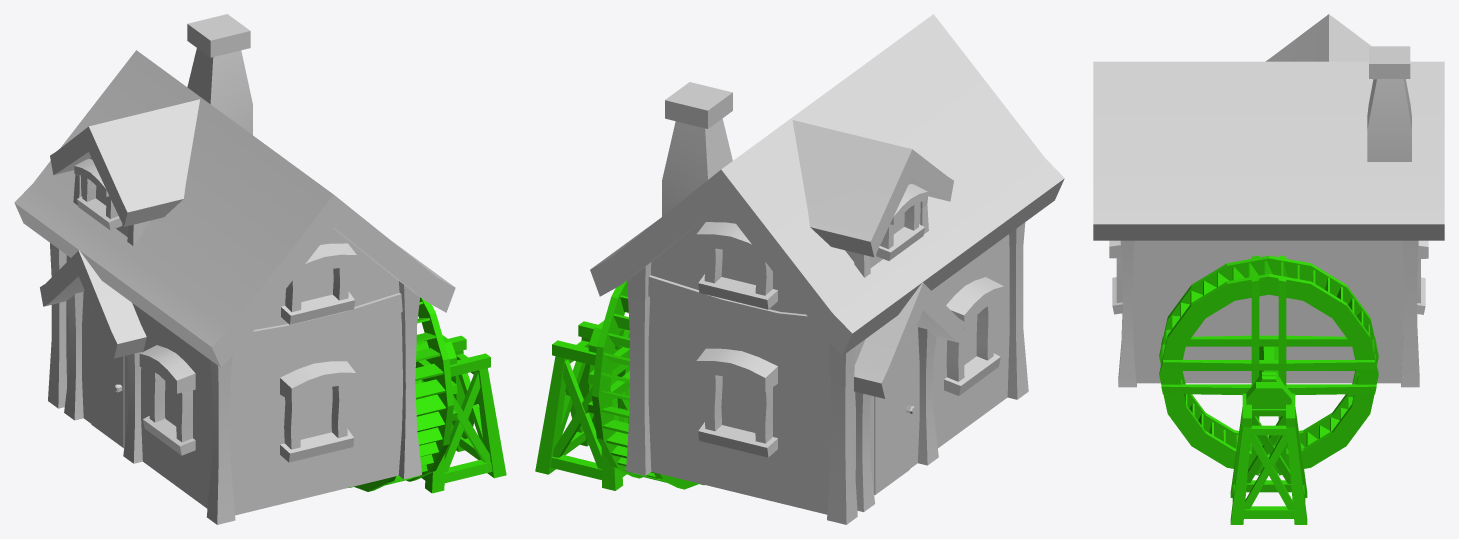
File: House Water Wheel.fbx
3 views of the same model, side by side, from view 1: azimuth 30°, elevation 25°; view 2: azimuth 150°, elevation 25°; view 3: azimuth 270°, elevation 25° (orthographic). The views are drawn at different scales.
Parts seen in each view (by area): view 1: House Water Wheel, Water Wheel, House Water Wheel Door; view 2: House Water Wheel, Water Wheel, House Water Wheel Door; view 3: House Water Wheel, Water Wheel.
Part boxes in pixels (box(x1,y1,x2,y2)): House Water Wheel: box(14, 14, 506, 524); Water Wheel: box(349, 297, 457, 491); House Water Wheel Door: box(91, 307, 124, 448); House Water Wheel: box(535, 14, 1064, 524); Water Wheel: box(588, 281, 704, 489); House Water Wheel Door: box(874, 343, 914, 494); House Water Wheel: box(1093, 14, 1444, 524); Water Wheel: box(1159, 255, 1378, 475).
Bounding box in the file's own units: 5.99 × 6.62 × 5.49.
